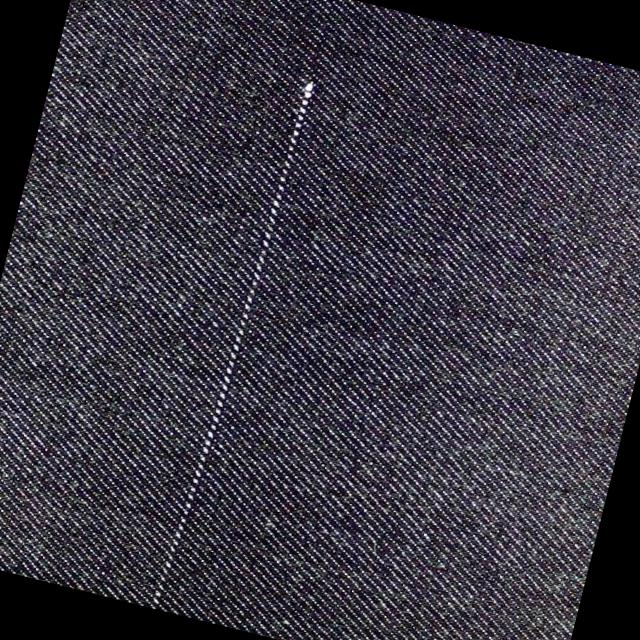Warp_Weft: (147, 69, 320, 616)
